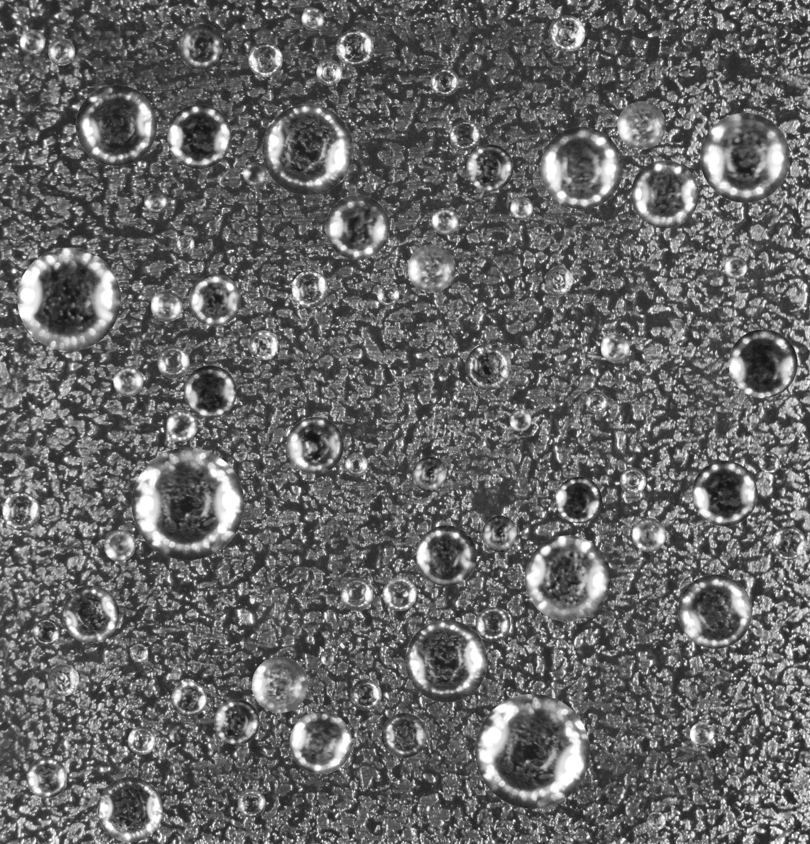Bubble: (475, 694, 589, 808), (131, 447, 244, 560), (17, 247, 120, 350), (262, 104, 353, 195), (700, 112, 790, 202), (525, 535, 610, 621), (540, 126, 622, 209), (405, 620, 487, 702), (75, 84, 156, 165), (678, 574, 752, 648), (728, 329, 797, 398), (631, 160, 698, 228), (692, 460, 757, 526), (97, 777, 162, 842), (325, 195, 389, 259), (167, 104, 231, 168), (289, 711, 352, 774), (416, 525, 476, 586), (62, 585, 119, 643), (286, 417, 343, 474), (251, 656, 307, 712), (184, 365, 236, 418), (188, 274, 240, 326), (617, 101, 665, 149), (407, 244, 455, 292), (466, 144, 513, 191), (555, 476, 602, 523), (465, 343, 511, 390), (178, 23, 224, 70), (381, 713, 426, 758), (214, 699, 259, 744), (26, 757, 67, 798), (2, 492, 40, 530), (336, 29, 373, 66), (291, 270, 328, 307), (548, 15, 585, 51), (482, 515, 518, 552), (412, 456, 447, 491), (171, 681, 206, 716), (382, 577, 416, 611), (476, 607, 510, 641), (248, 42, 282, 76), (632, 517, 666, 551), (772, 526, 805, 560), (157, 345, 189, 378), (340, 578, 373, 610), (47, 664, 79, 696), (150, 289, 182, 321), (103, 530, 135, 561), (350, 679, 381, 710), (166, 410, 197, 441), (248, 330, 278, 360), (113, 366, 143, 396), (449, 120, 479, 150), (600, 333, 629, 362), (430, 67, 458, 96), (127, 726, 156, 754), (545, 266, 573, 294), (237, 789, 265, 817), (32, 618, 59, 645), (48, 38, 75, 65), (431, 208, 458, 234), (620, 468, 646, 494), (316, 59, 342, 85), (19, 29, 45, 54), (723, 255, 747, 279), (690, 722, 713, 746), (144, 189, 167, 213), (243, 162, 266, 185), (301, 7, 324, 30), (510, 196, 533, 219), (345, 453, 367, 476), (509, 409, 531, 431), (377, 283, 399, 305), (586, 391, 607, 413), (758, 451, 779, 472), (647, 811, 665, 830), (130, 644, 148, 662), (177, 235, 194, 252), (321, 652, 334, 665)
